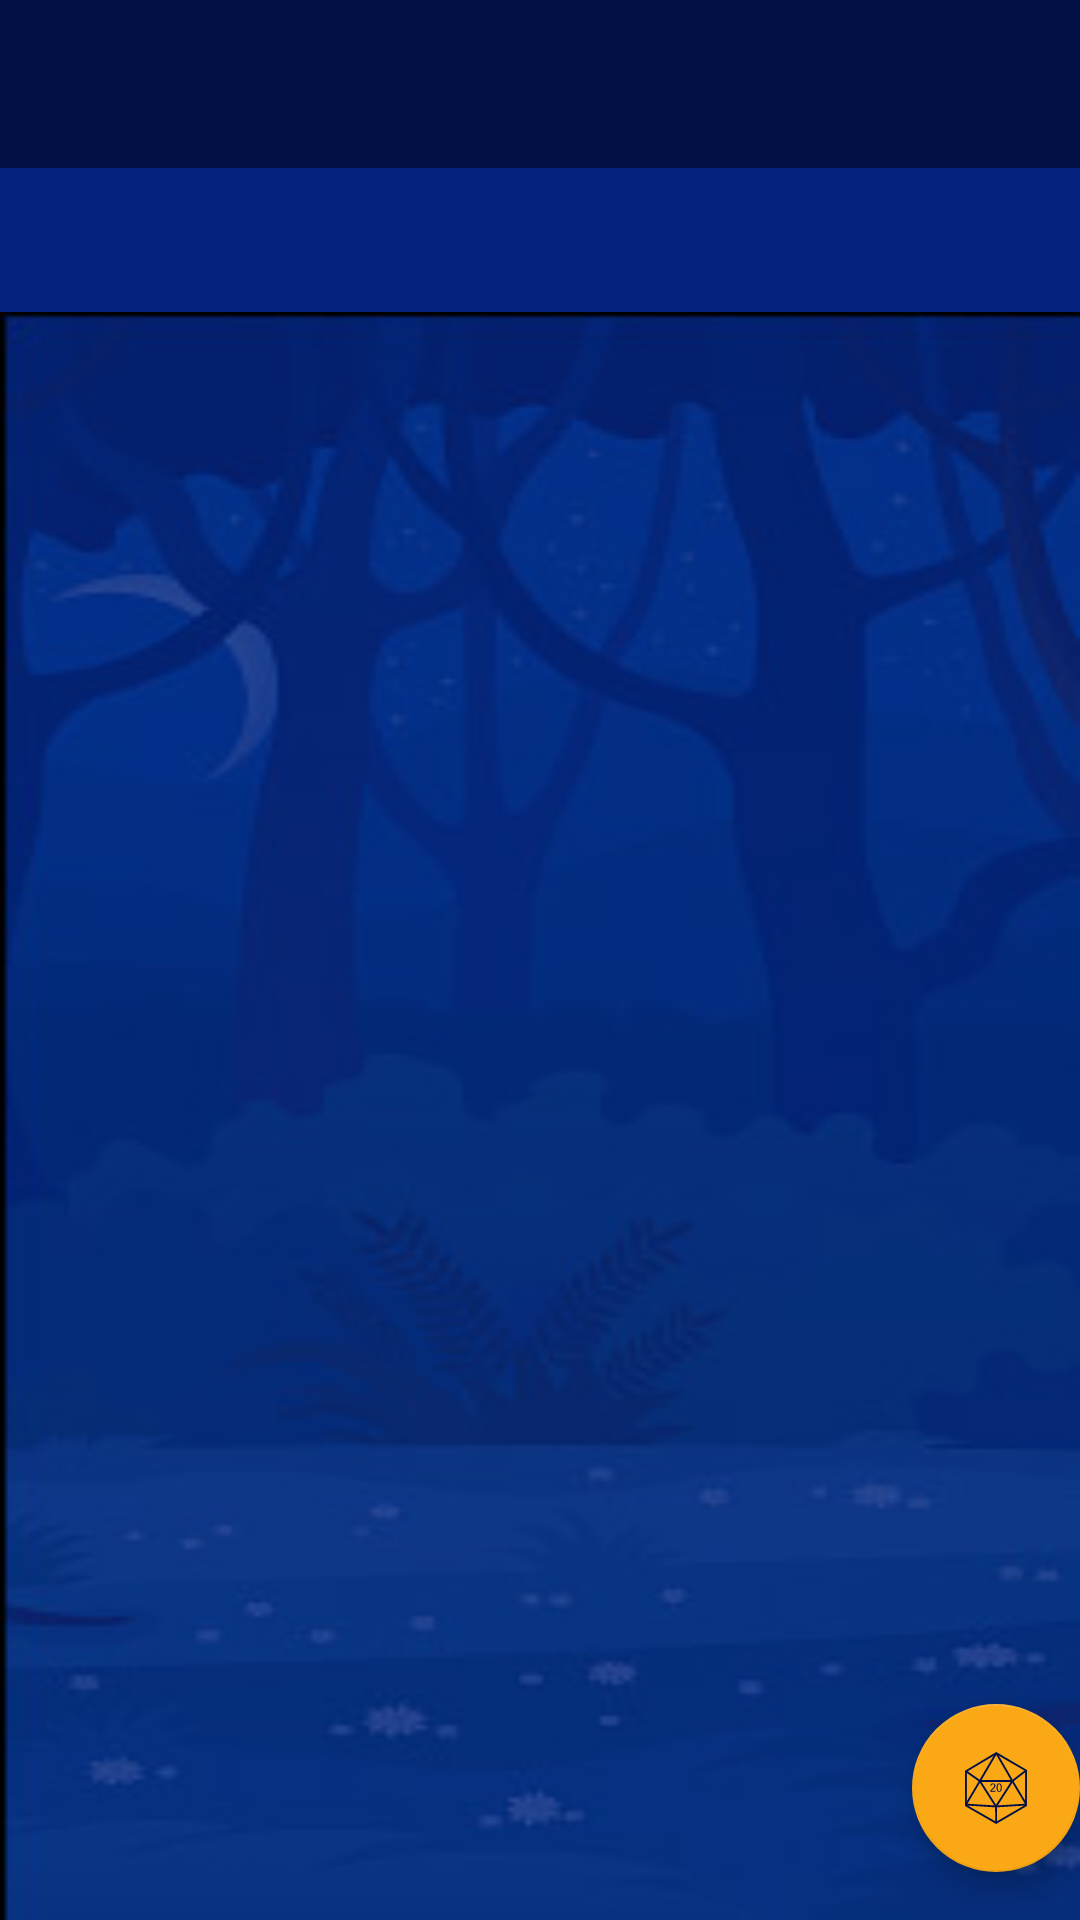

Named icons in this screenshot (1080x1920) and their bounding boxes, Rect(x1, y1, x2, y2):
dice: Rect(912, 1704, 1080, 1872)
